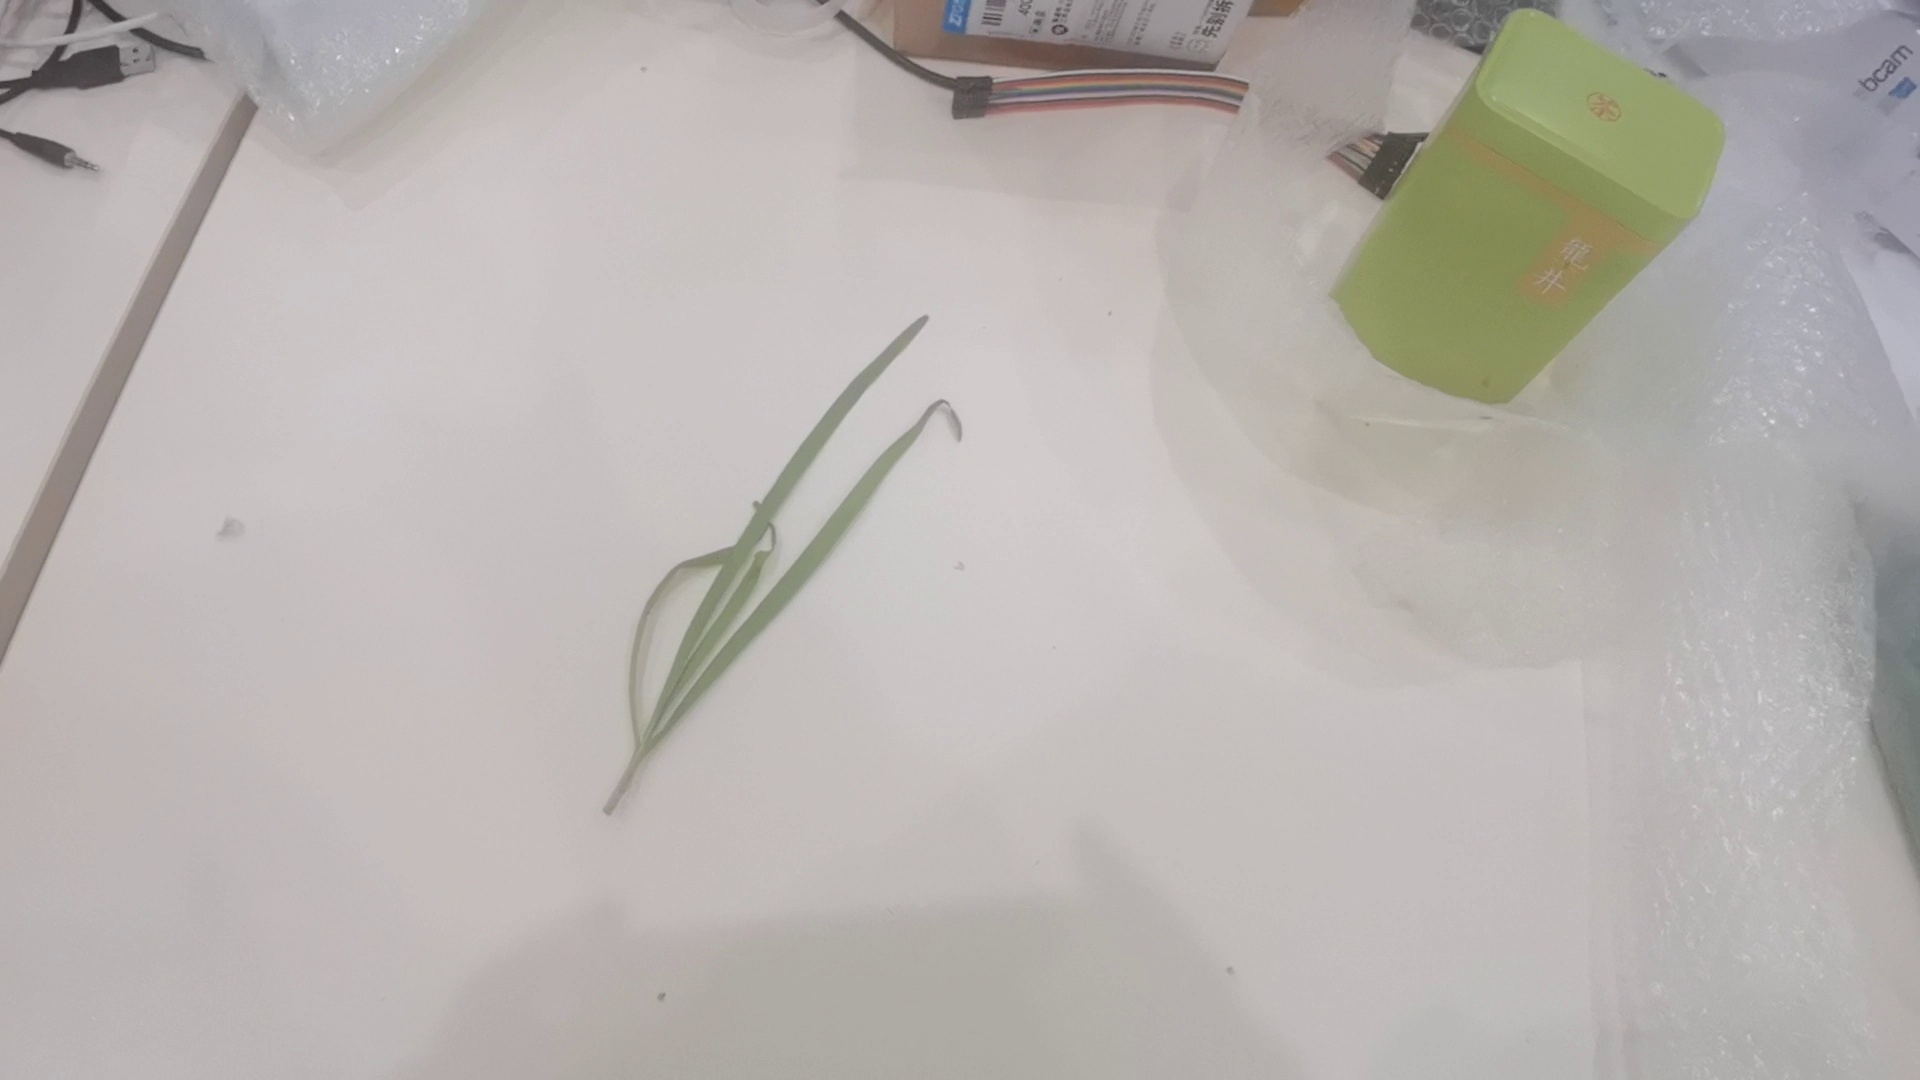chives: (589, 306, 963, 836)
